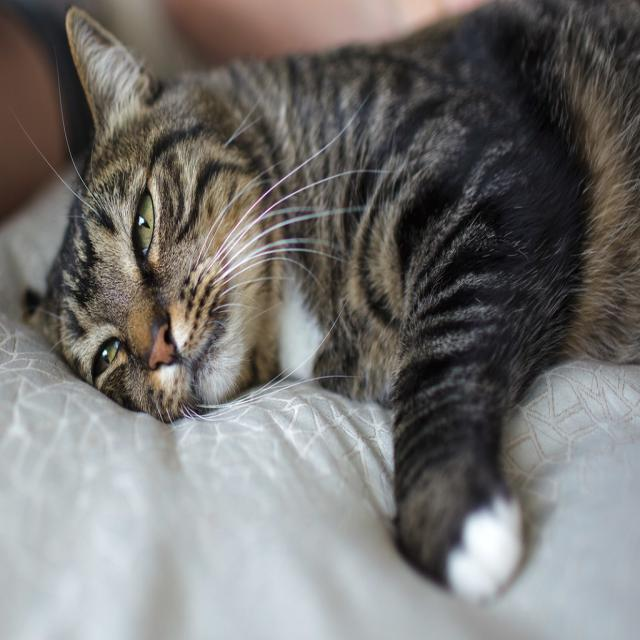Cat: (6, 0, 640, 601)
